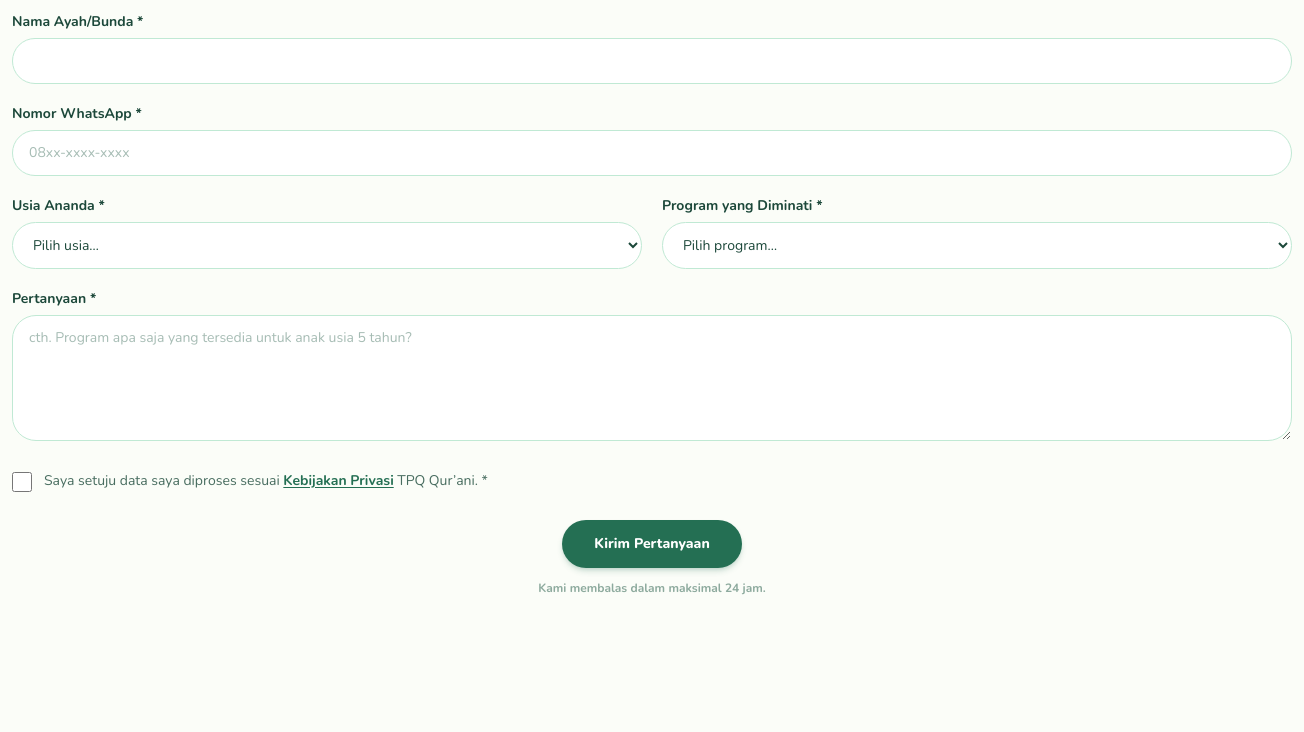
Scenario: InquiryForm (kontak page) › surfaces 422 field errors and the 429 rate-limit message
The width and height of the screenshot is (1304, 732).
Type "Ibu Siti Rahma" into the field labelled "Nama Ayah/Bunda *". click: (652, 61)
box: [12, 38, 1292, 84]
Type "081234567890" into the field labelled "Nomor WhatsApp *". click: (652, 153)
box: [12, 130, 1292, 176]
Select "5 tahun" in the dropdown labelled "Usia Ananda *". click: (327, 246)
box: [12, 222, 642, 269]
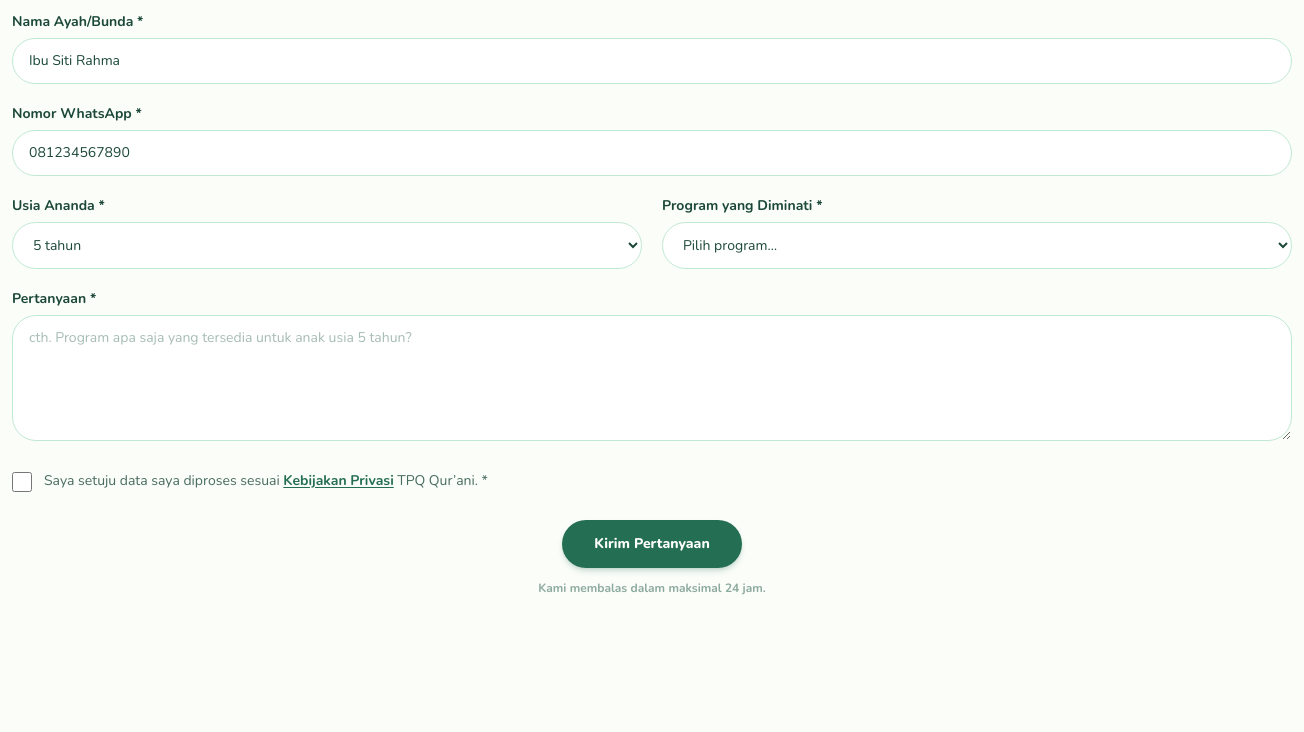
Select "TK Qur'ani (5–6 th)" in the dropdown labelled "Program yang Diminati *". click: (977, 246)
box: [662, 222, 1292, 269]
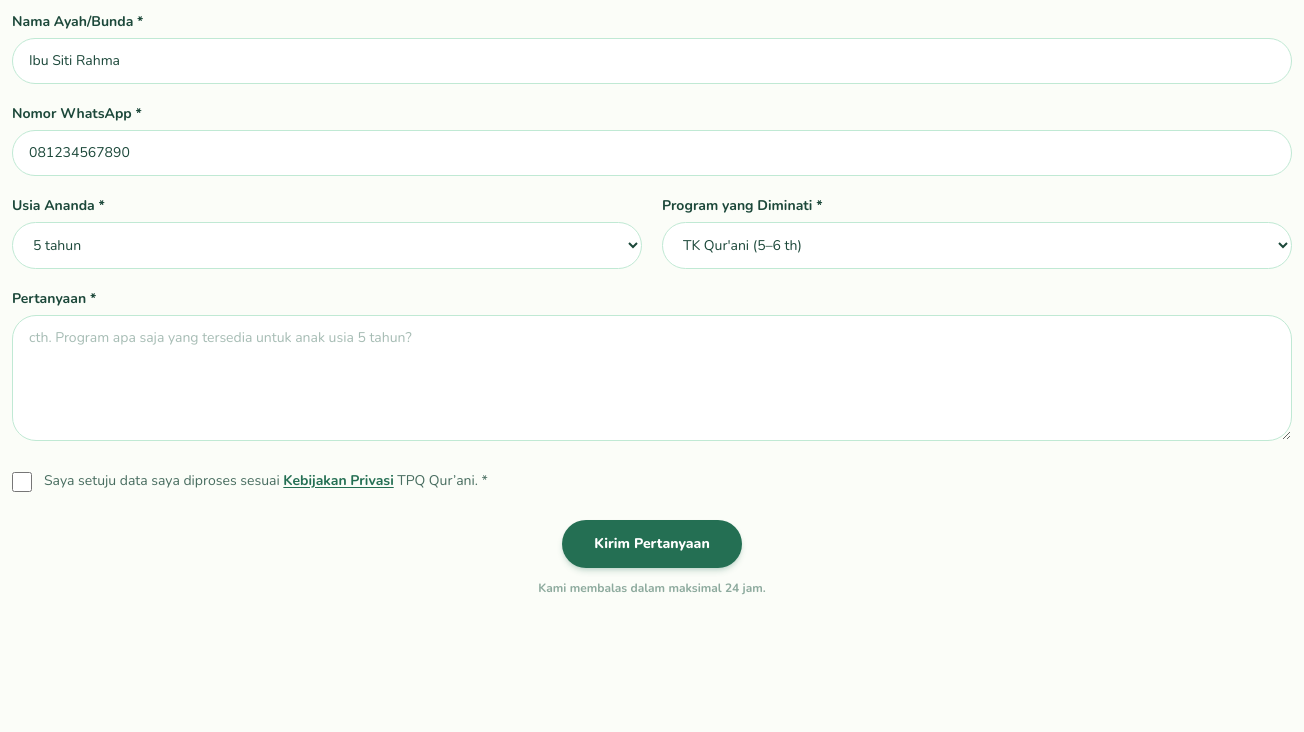
Type "Apakah ada program sore untuk anak usia 5 tahun?" into the text box labelled "Pertanyaan *". click: (652, 378)
box: [12, 315, 1292, 441]
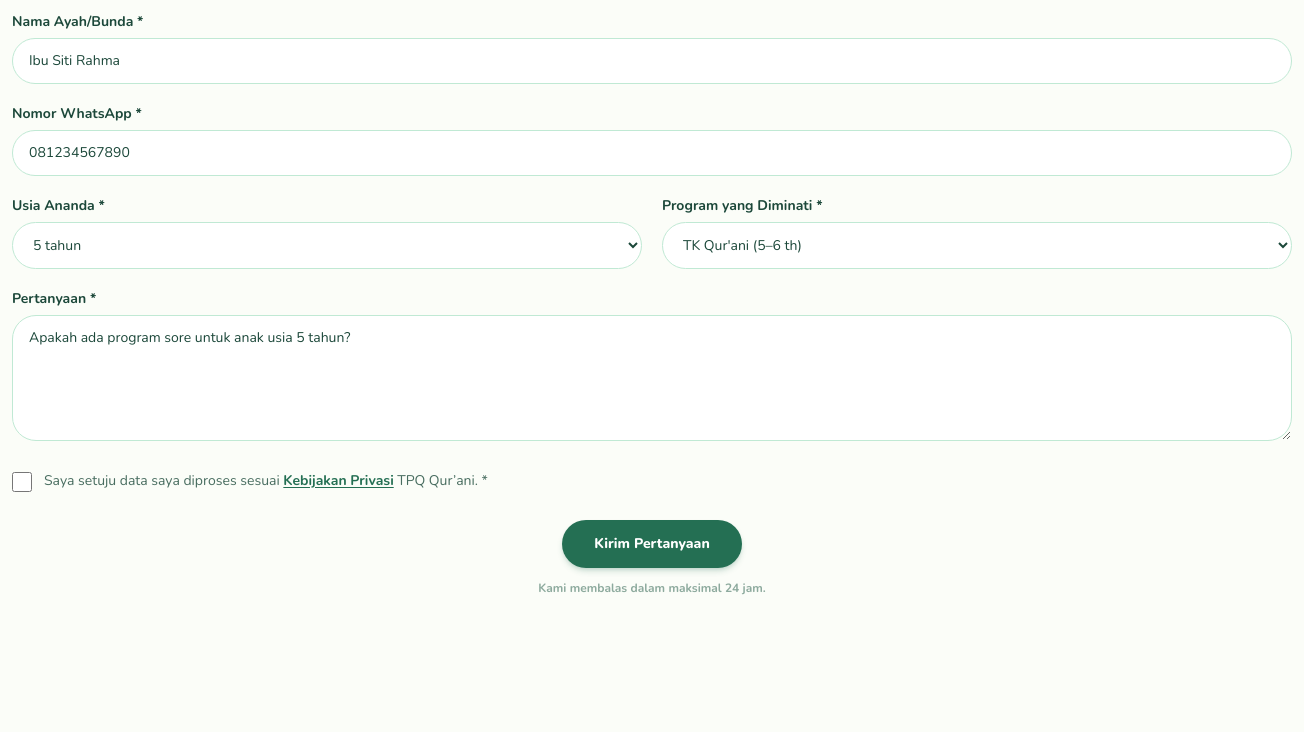
Click the checkbox. click: (22, 482)
box: [12, 472, 32, 492]
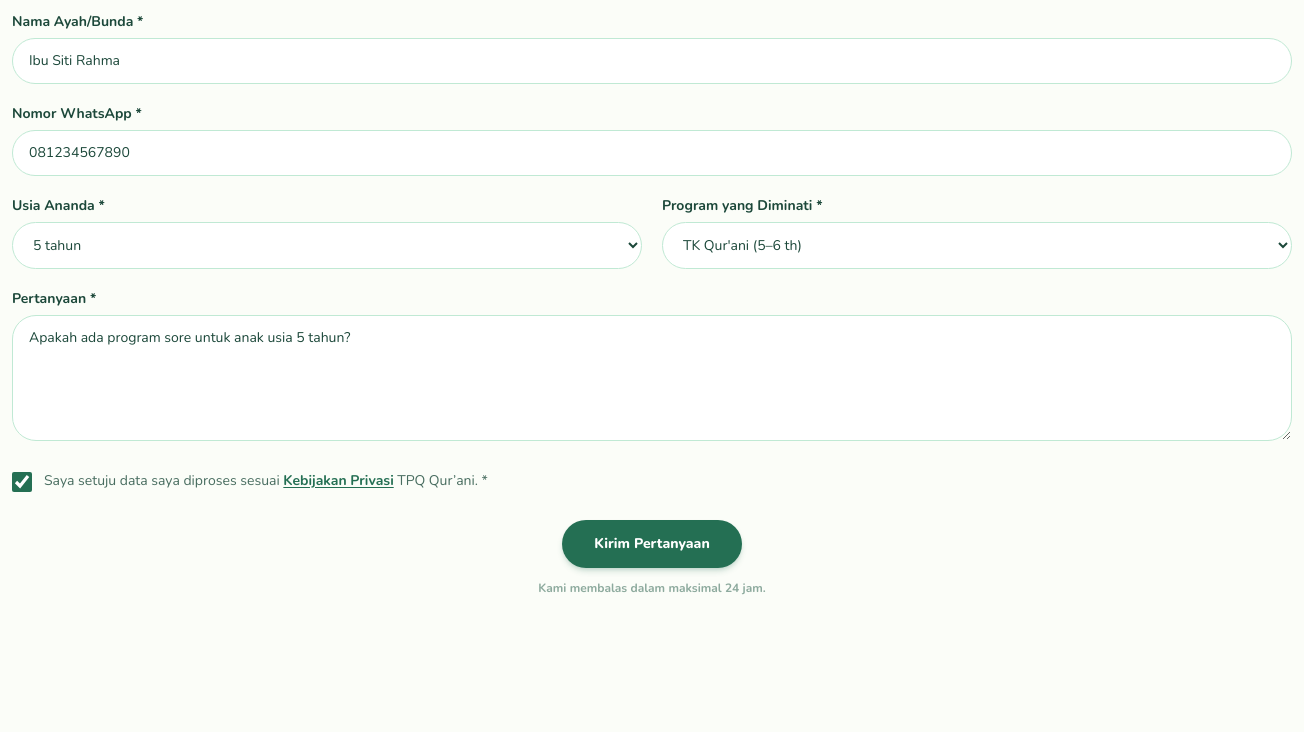
Click the button "Kirim Pertanyaan". click: (652, 544)
box: [562, 520, 742, 568]
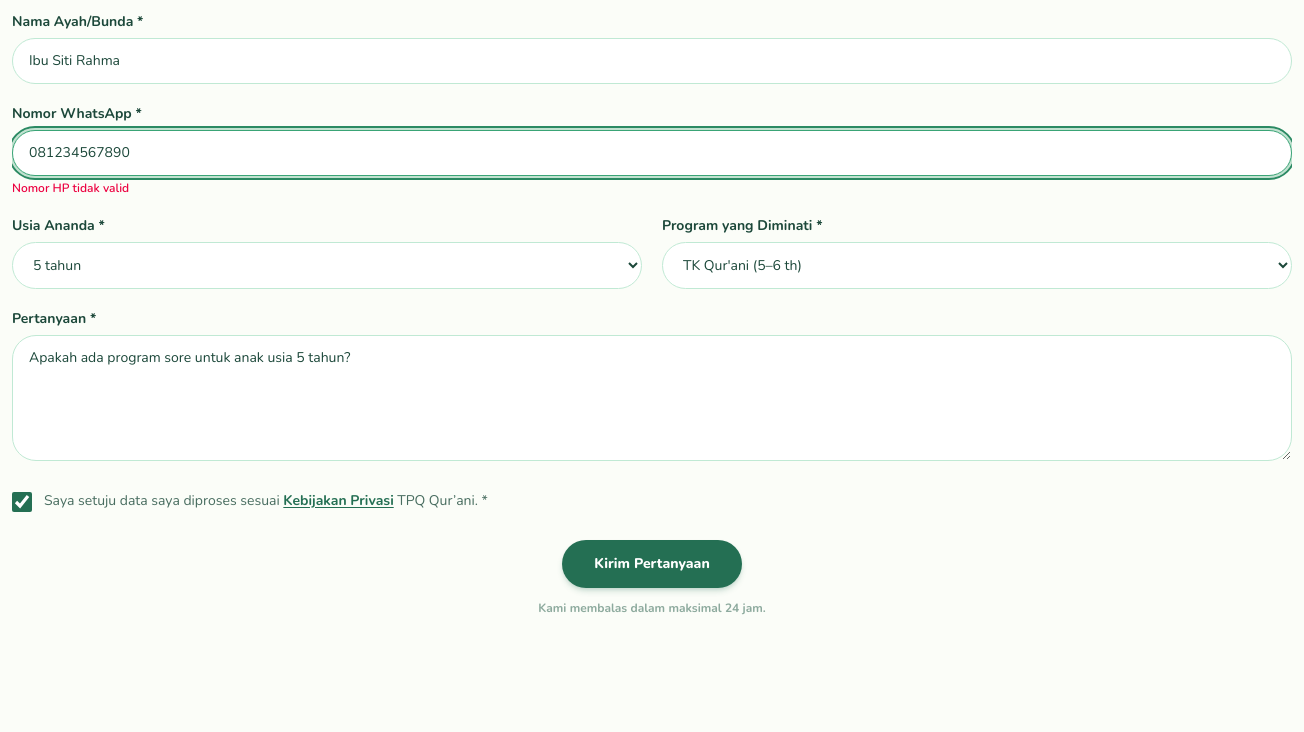
expect the text "Nomor HP tidak valid" is shown: met, box [12, 180, 129, 196]
Click the button "Kirim Pertanyaan". click: (652, 564)
box: [562, 540, 742, 588]
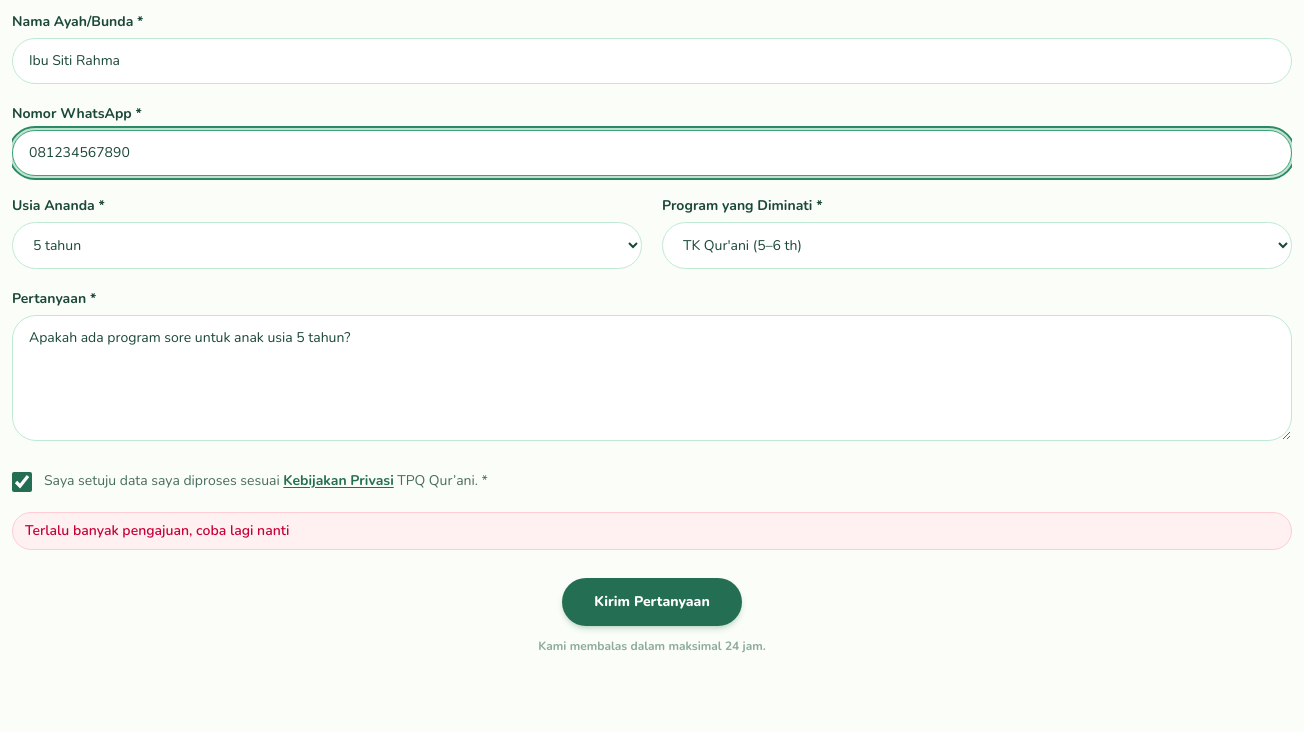
expect the text "Terlalu banyak pengajuan, coba lagi nanti" is shown: met, box [12, 512, 1292, 550]
